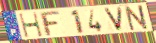1: (70, 9, 86, 35)
4: (87, 8, 105, 33)
F: (38, 11, 62, 38)
H: (18, 12, 45, 39)
N: (124, 4, 150, 32)
V: (103, 6, 124, 33)
